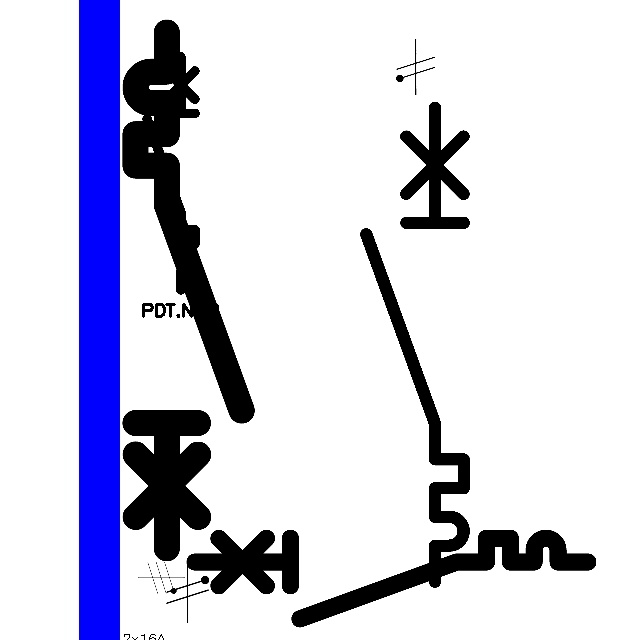interruptor_termomagnetico: (122, 19, 255, 561), (354, 95, 476, 594), (184, 528, 598, 629), (141, 50, 201, 296)
